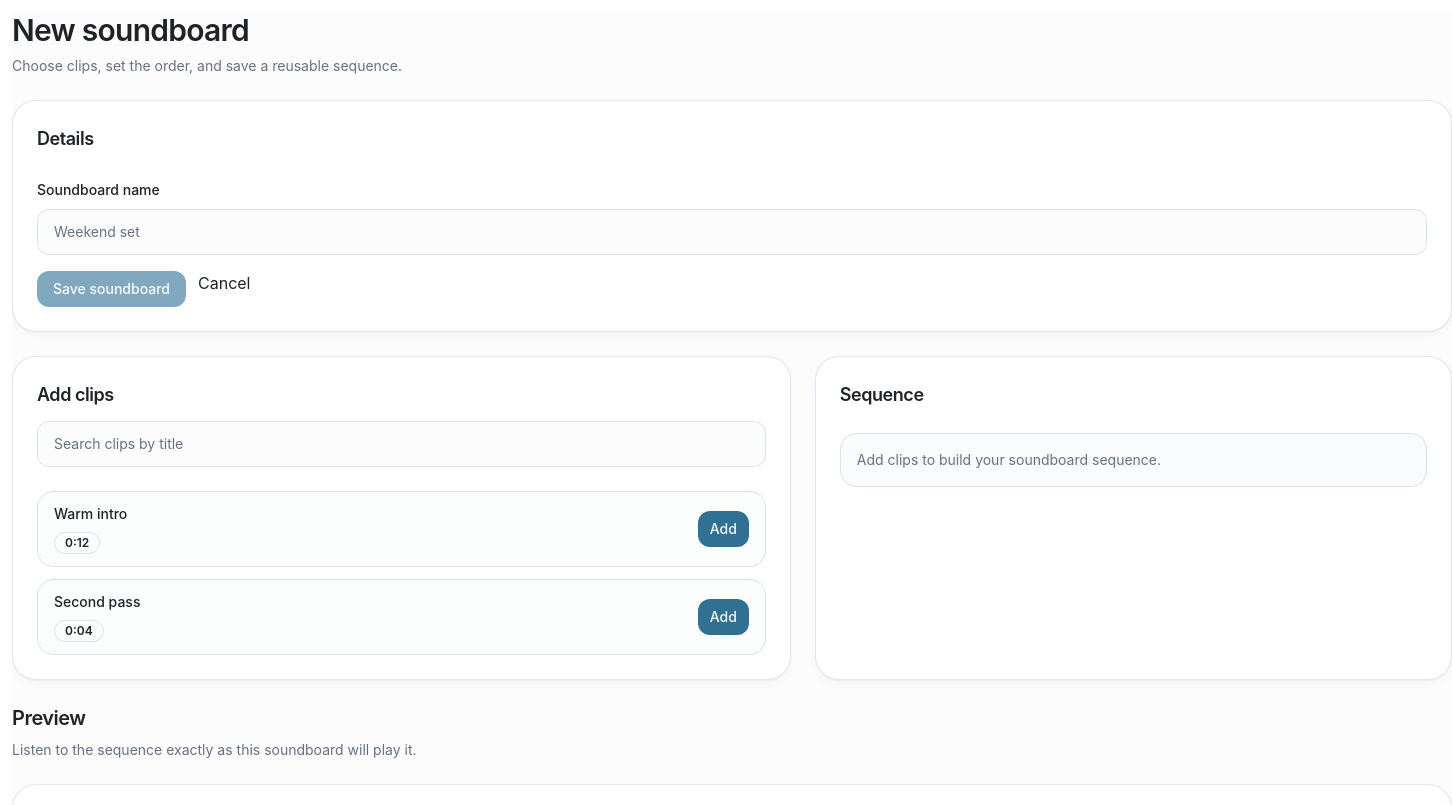
Test: NewSoundboardPage › filters clips by search query
This screenshot has width=1452, height=805.
Check: the text "Warm intro" is shown, box [54,504,127,524]
Type "second" into the field with placeholder "Search clips by title". click: (401, 444)
box: [37,421,766,467]
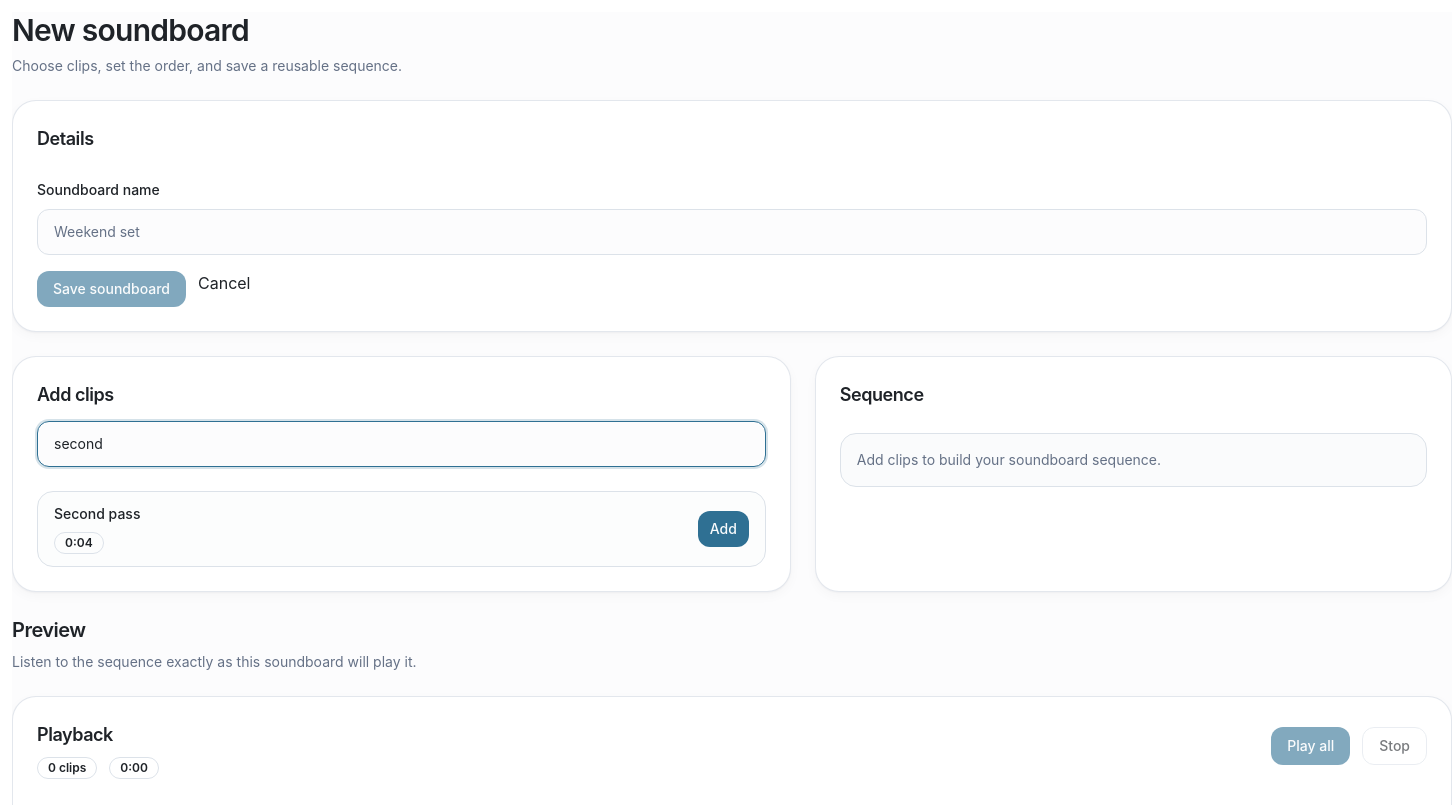
Check: the text "Second pass" is shown, box [54,504,140,524]
Check: the text "Warm intro" is gone
